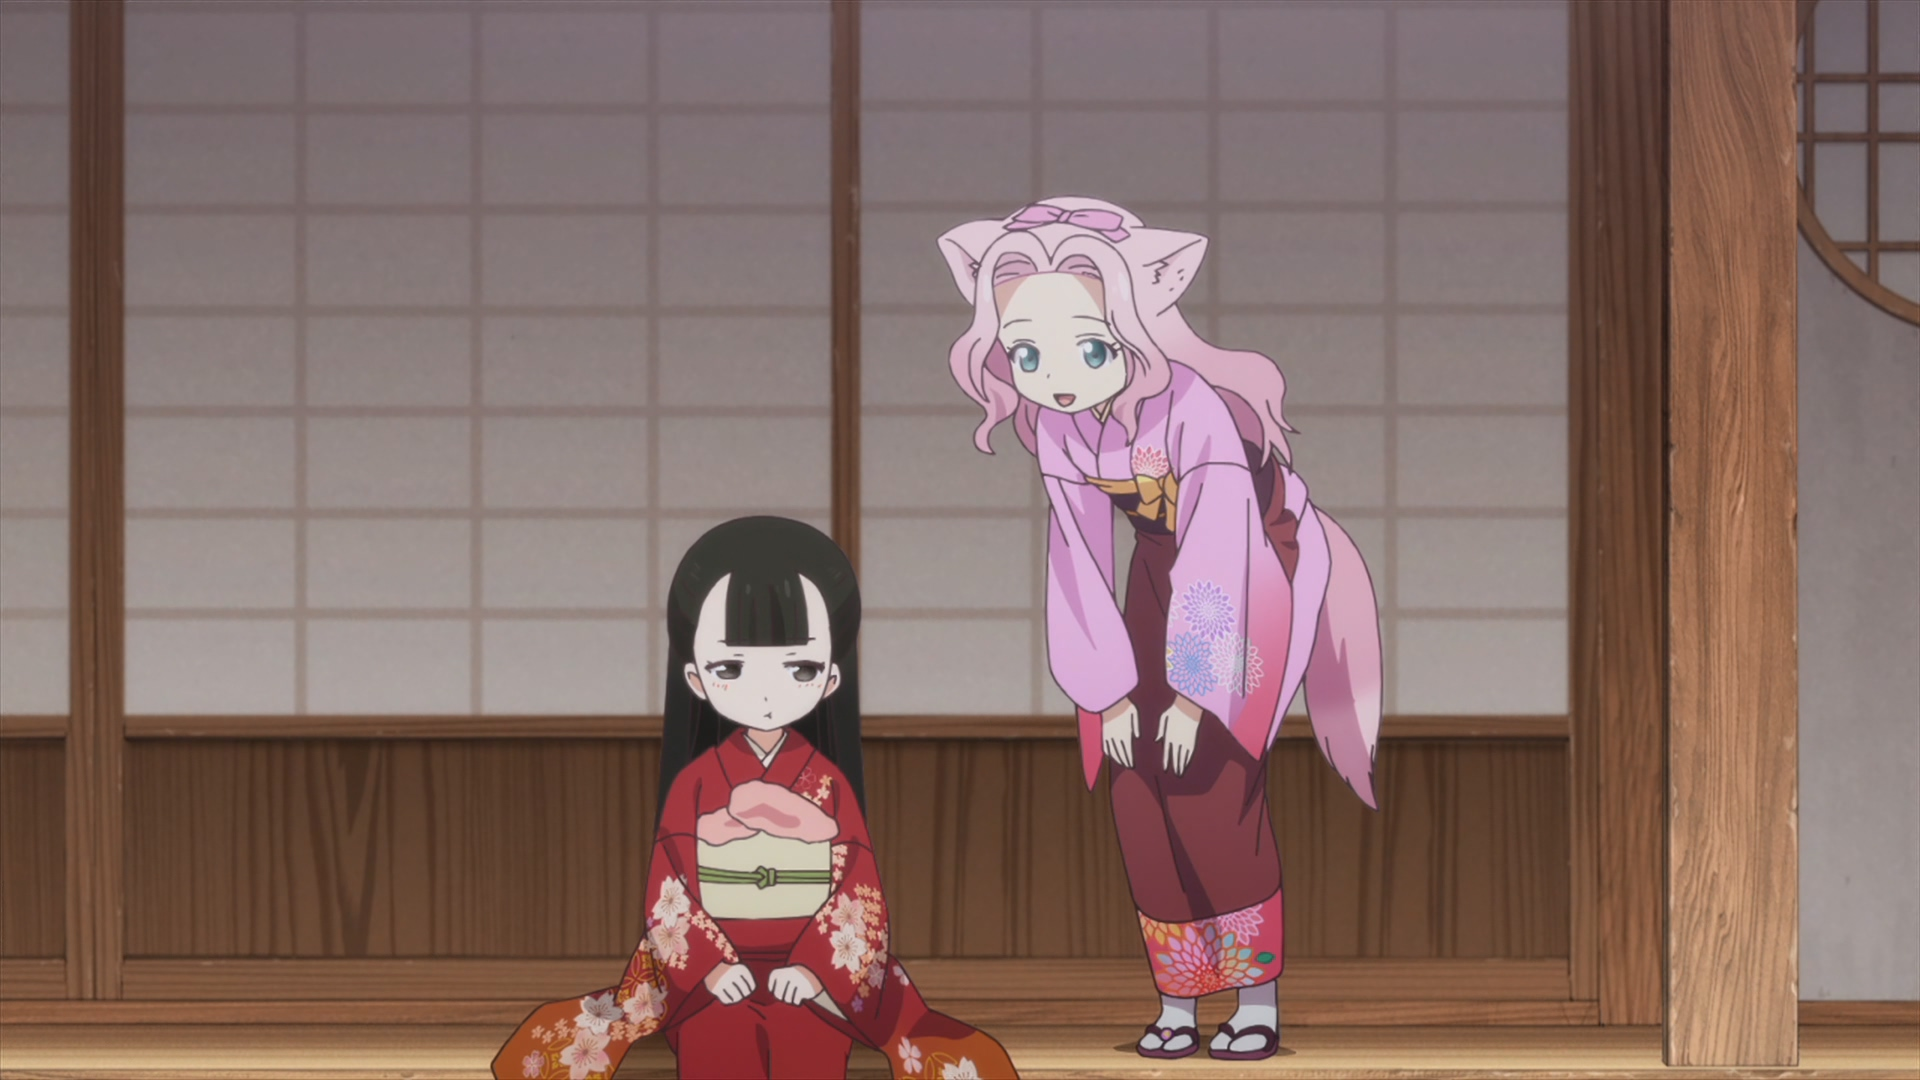其他: (493, 516, 1011, 1080)
莲: (938, 195, 1383, 1063)
